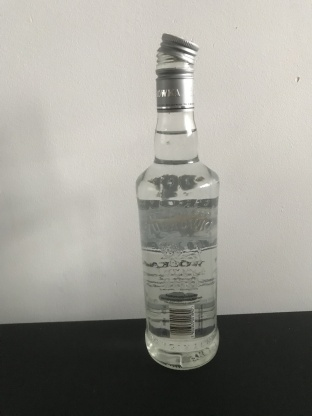nakretka: (153, 31, 200, 112)
